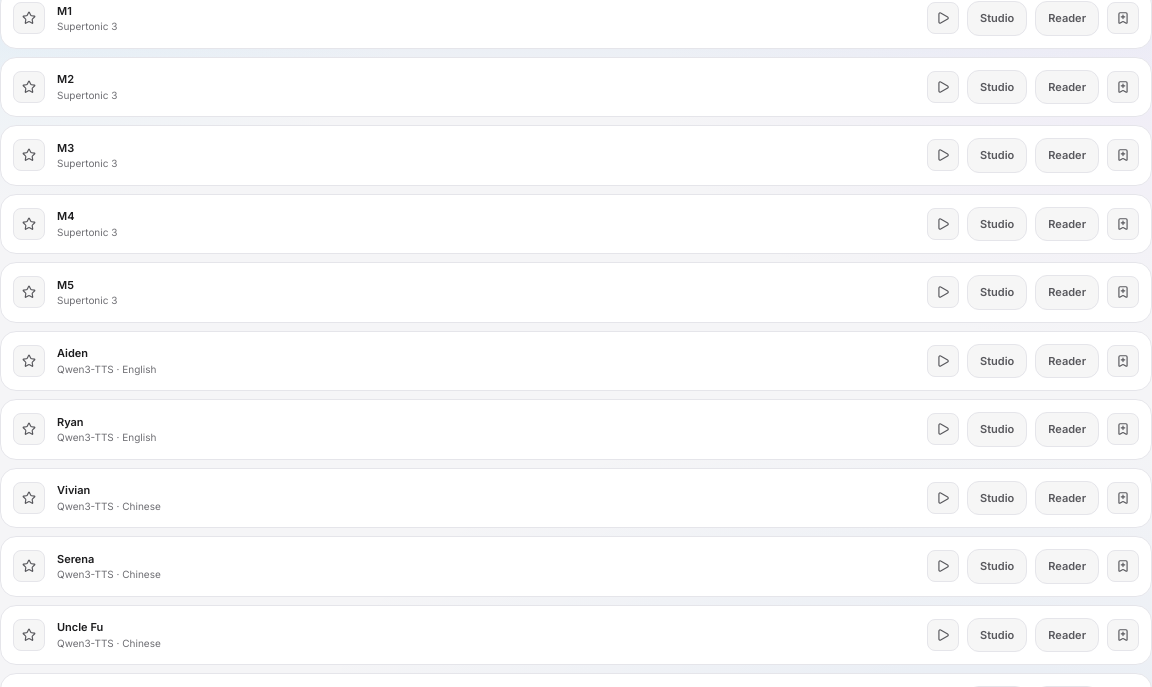
it: VoiceLibraryPanel › shows why a preview failed, and disables preview for engines without a runtime here
(page scrolled)
Click the button named "Preview Aiden" at (943, 361), box [927, 345, 959, 377]
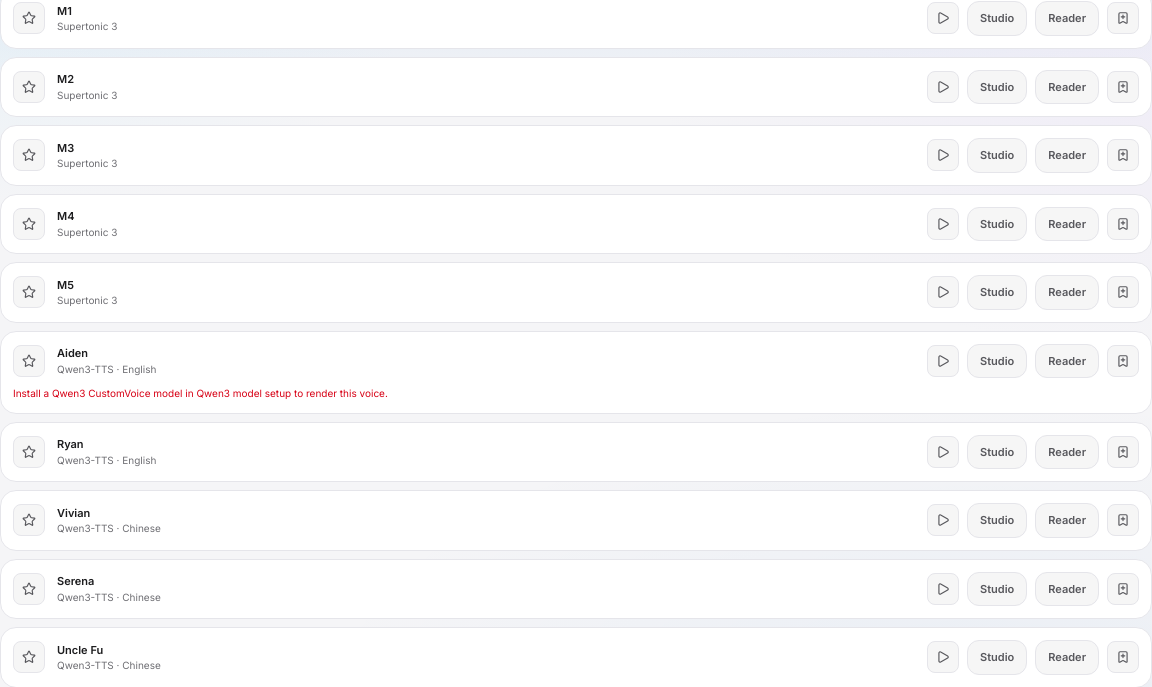
Check: the message shows "Install a Qwen3 CustomVoice model", box [13, 387, 388, 399]
